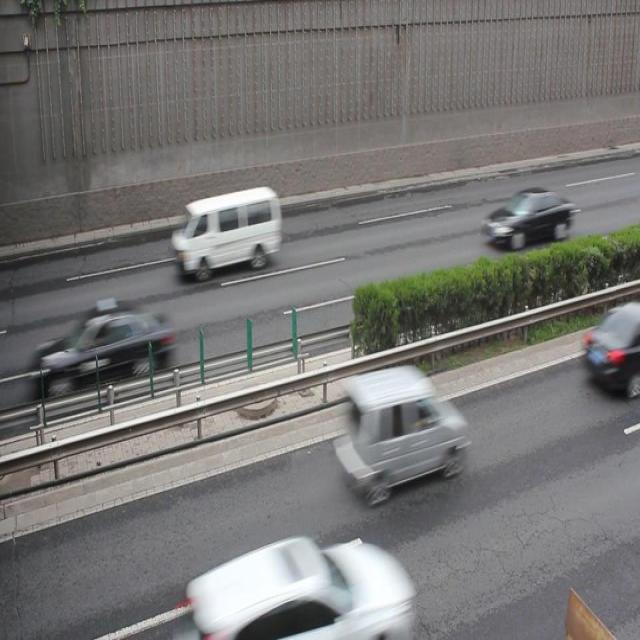car: (180, 535, 412, 640), (43, 299, 176, 394), (481, 187, 574, 250)
truck: (336, 363, 467, 499), (174, 184, 282, 279)
